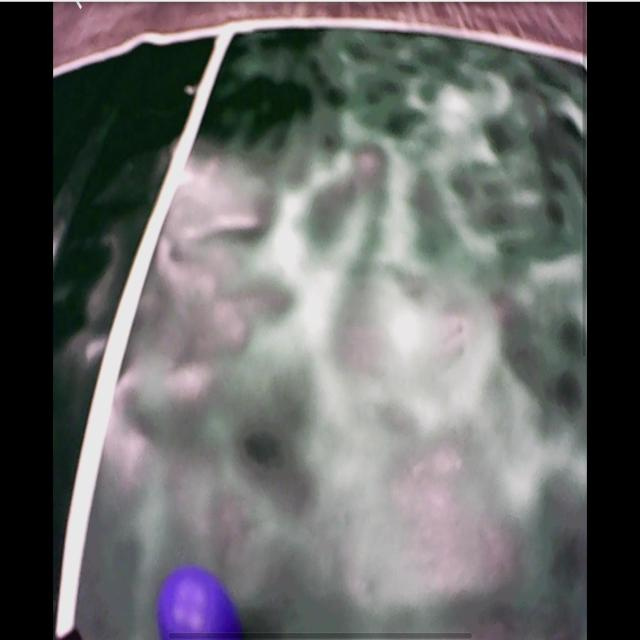ball: (156, 567, 241, 640)
